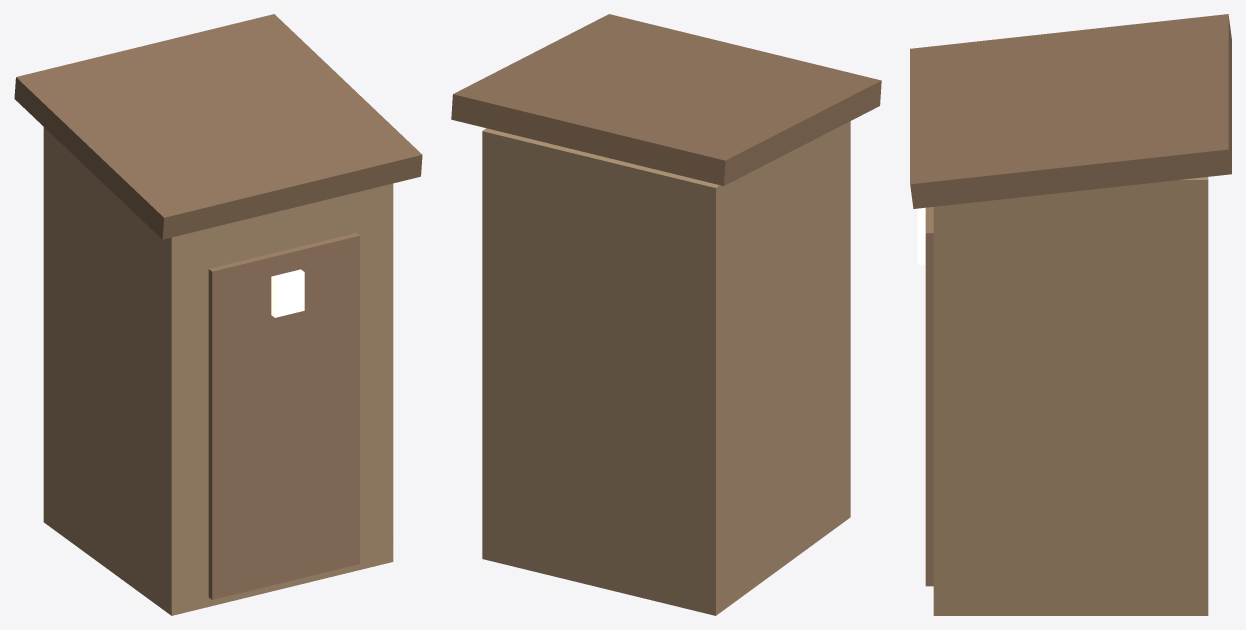
Rendered from outhouse.glb.
The picture shows the model from 3 angles, left to right: view 1: azimuth 30°, elevation 25°; view 2: azimuth 150°, elevation 25°; view 3: azimuth 270°, elevation 25°; orthographic projection. The views are drawn at different scales.
Parts seen in each view (by area): view 1: outhouse; view 2: outhouse; view 3: outhouse.
Part boxes in pixels (x1=…): outhouse: x1=14, y1=14, x2=422, y2=615; outhouse: x1=451, y1=14, x2=881, y2=615; outhouse: x1=910, y1=14, x2=1231, y2=615.
Size of the model in its own units: 1.4 by 2.29 by 1.4.
